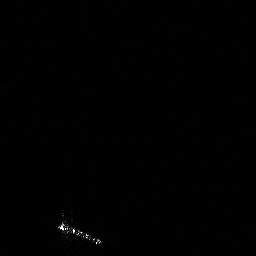ship: (52, 215, 106, 250)
